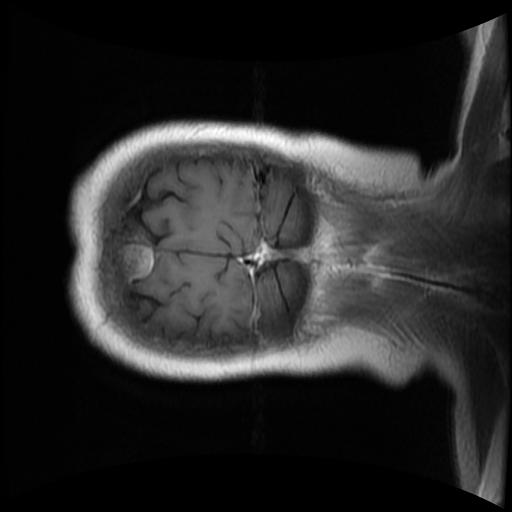meningioma: (120, 243, 155, 282)
